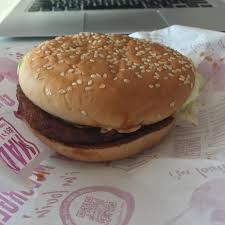hamburger: (15, 29, 205, 164)
